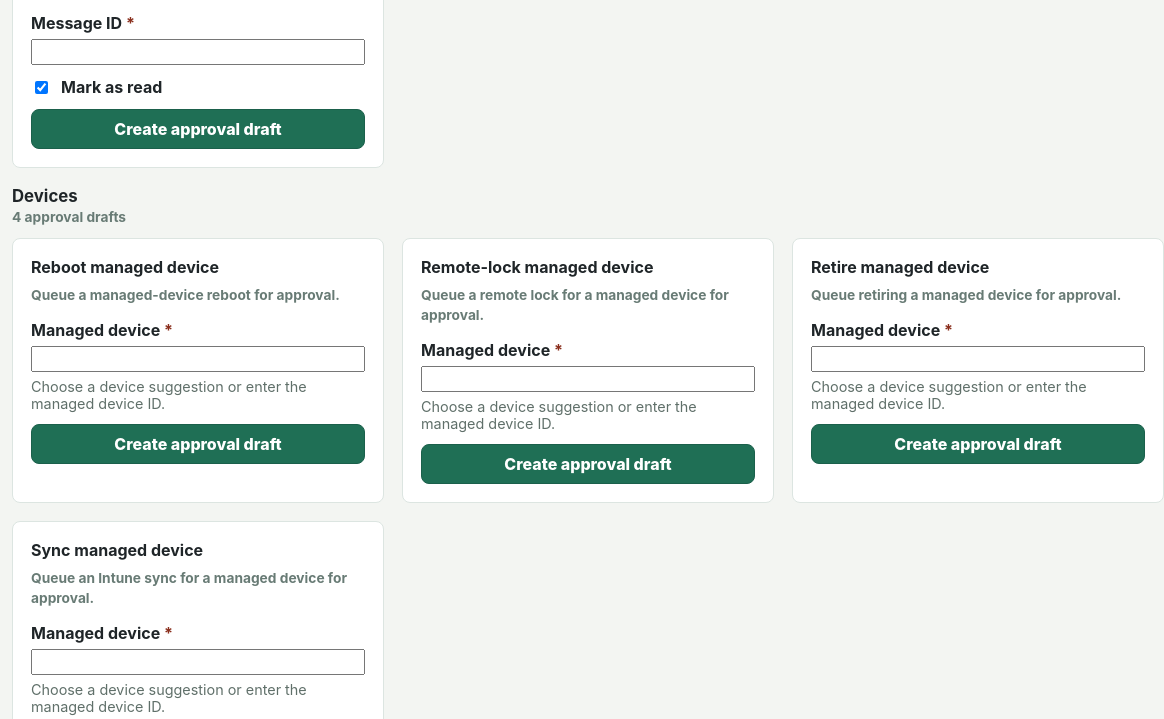
Test case: M365Actions › renders API errors as a danger notice
(page scrolled)
Type "device-001" into the field labelled "Managed device" below "Reboot managed device" at (198, 359), box 31,346 -> 365,372
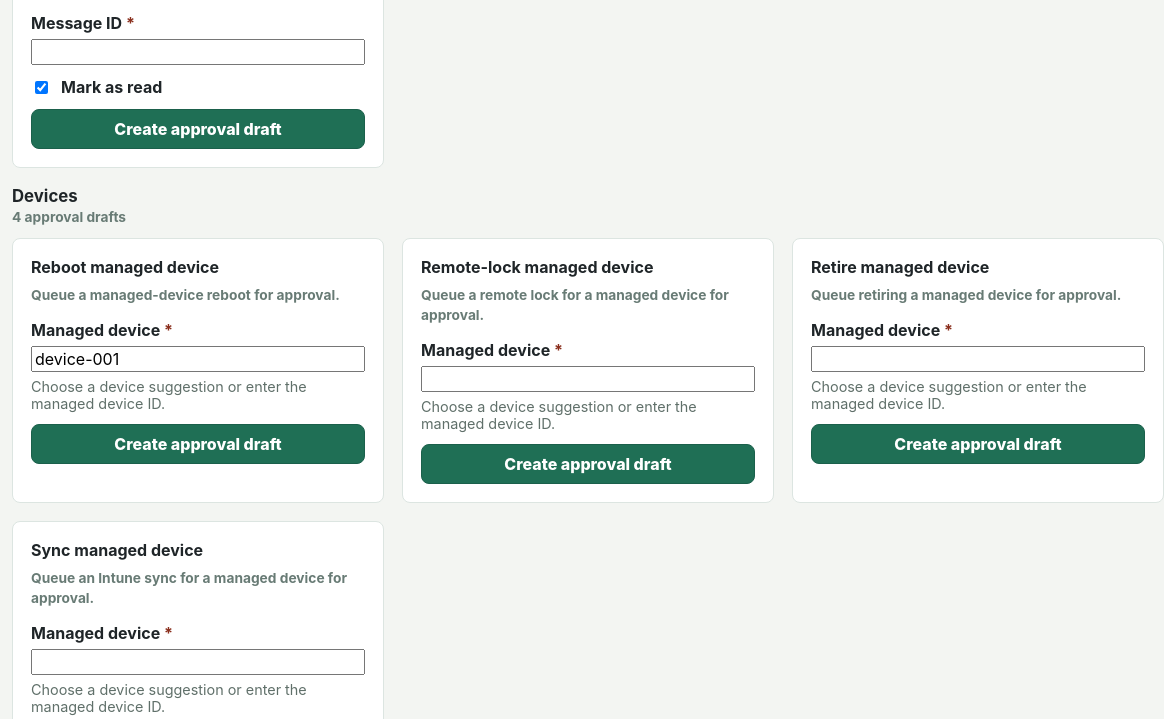
Submit the form below "Reboot managed device", box 31,320 -> 365,464
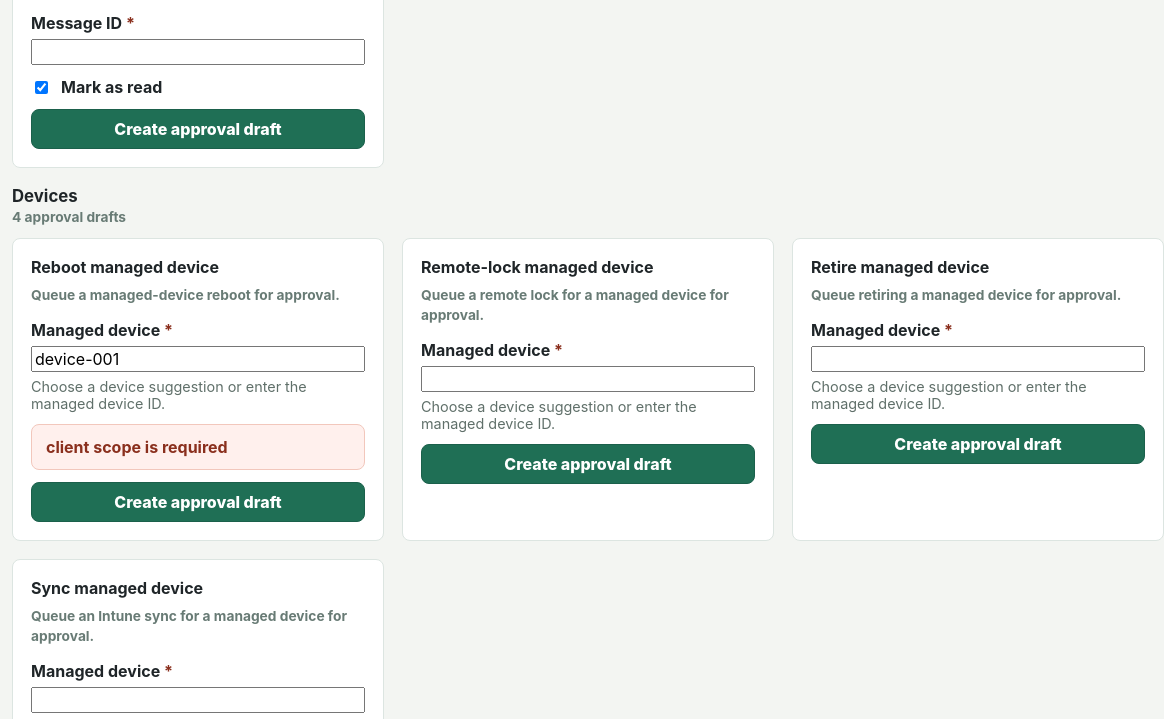
Now the message reads "client scope is required", box 46,437 -> 228,457
